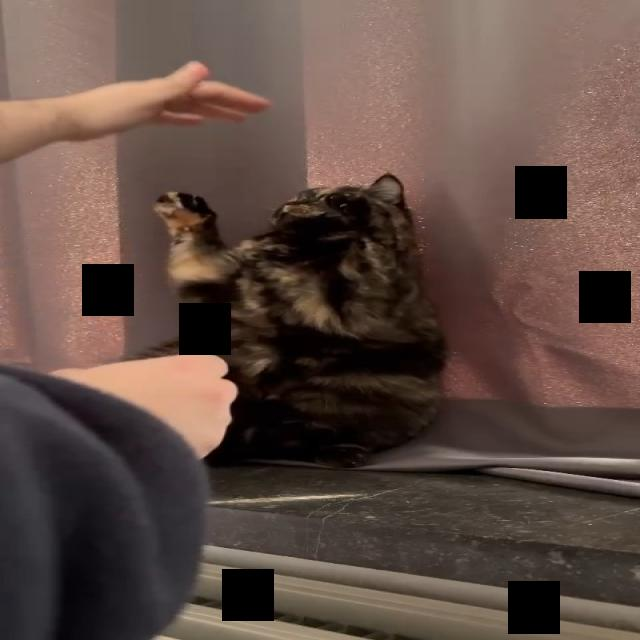authorized: (123, 171, 448, 469)
